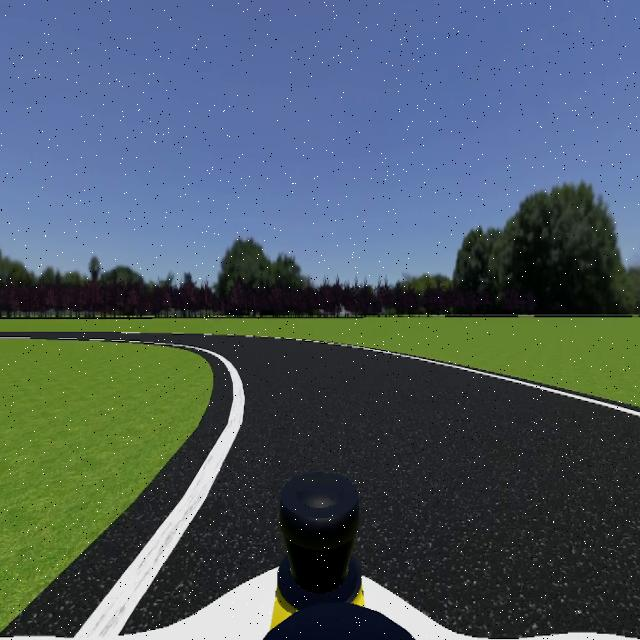road: (125, 336, 640, 637)
solid_line: (75, 342, 245, 640), (314, 341, 640, 419)
